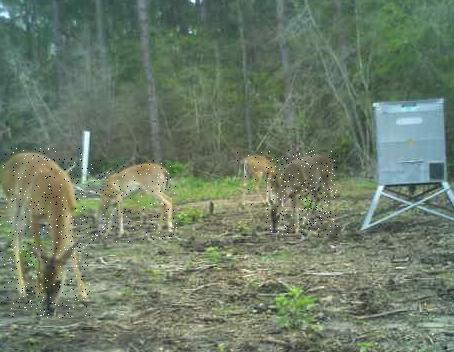Deer: (0, 148, 90, 318), (88, 161, 177, 243), (266, 150, 338, 235), (236, 152, 279, 207)
